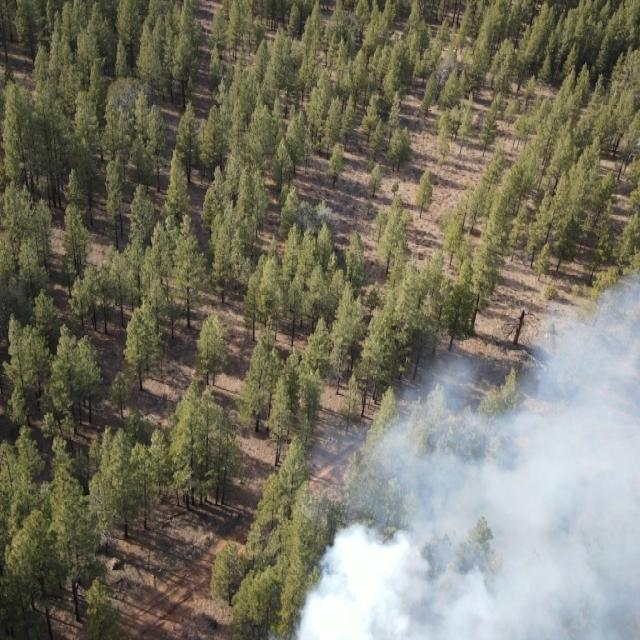smoke: (275, 274, 640, 640), (110, 80, 146, 112), (299, 199, 335, 230), (432, 59, 457, 86), (336, 12, 364, 32)
